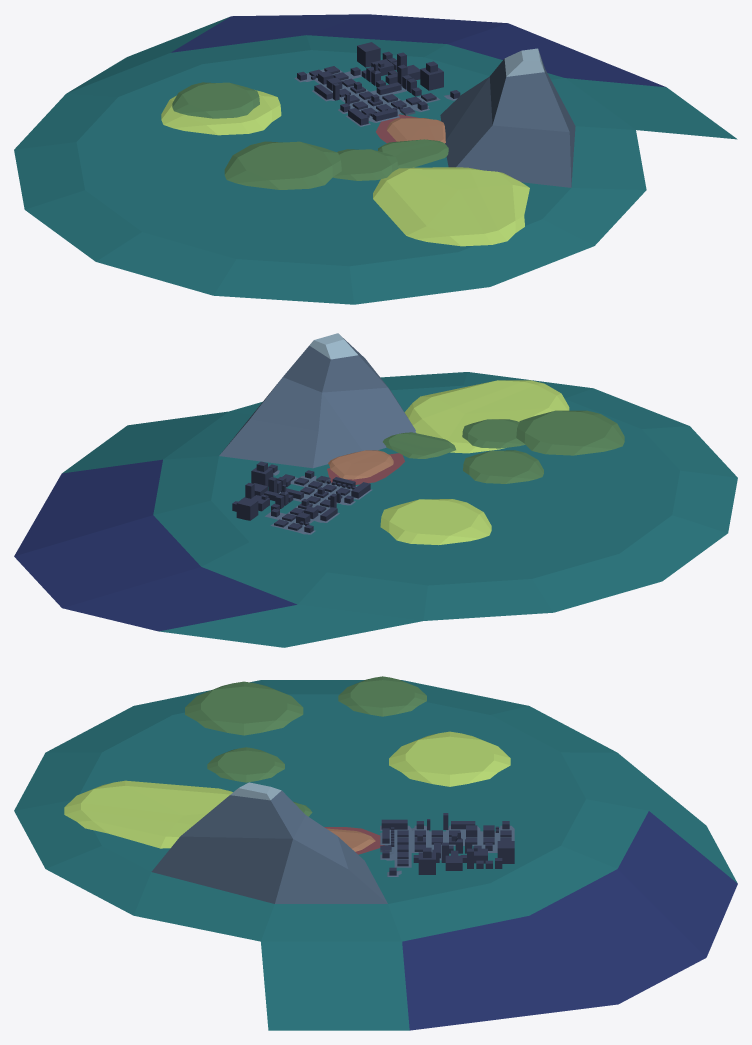
Rendered from EXT_BigCityx2_Wastes.fbx.
The picture shows the model from 3 angles, top to bottom: view 1: azimuth 30°, elevation 25°; view 2: azimuth 150°, elevation 25°; view 3: azimuth 270°, elevation 25°; orthographic projection. The views are drawn at different scales.
Visible parts, largest first — view 1: Cylinder.044, Cylinder.052, Cylinder.045, Cylinder.048, Cylinder.049, Cylinder.050, Cylinder.047, Cylinder.053, Cylinder.051, Cylinder.057; view 2: Cylinder.044, Cylinder.052, Cylinder.050, Cylinder.045, Cylinder.048, Cylinder.049, Cylinder.047, Cylinder.051, Cylinder.053; view 3: Cylinder.044, Cylinder.052, Cylinder.050, Cylinder.048, Cylinder.045, Cylinder.049, Cylinder.047, Cylinder.051.
Boxes of the visible parts, x1,y1,x2,y2 form: Cylinder.044: [14, 14, 737, 304]; Cylinder.052: [373, 167, 529, 246]; Cylinder.045: [294, 42, 460, 126]; Cylinder.048: [224, 141, 341, 189]; Cylinder.049: [172, 82, 259, 118]; Cylinder.050: [161, 90, 281, 135]; Cylinder.047: [333, 149, 397, 180]; Cylinder.053: [378, 139, 448, 168]; Cylinder.051: [387, 118, 445, 143]; Cylinder.057: [385, 64, 421, 96]; Cylinder.044: [14, 333, 737, 647]; Cylinder.052: [404, 380, 569, 453]; Cylinder.050: [380, 499, 491, 545]; Cylinder.045: [236, 461, 372, 534]; Cylinder.048: [516, 410, 624, 455]; Cylinder.049: [463, 450, 543, 483]; Cylinder.047: [462, 419, 525, 448]; Cylinder.051: [328, 450, 393, 479]; Cylinder.053: [383, 432, 455, 458]; Cylinder.044: [14, 680, 737, 1030]; Cylinder.052: [64, 780, 232, 848]; Cylinder.050: [389, 731, 510, 786]; Cylinder.048: [185, 681, 303, 735]; Cylinder.045: [380, 819, 514, 876]; Cylinder.049: [338, 676, 426, 716]; Cylinder.047: [207, 747, 284, 782]; Cylinder.051: [327, 828, 375, 851].
Size of the model in its own units: 505330 by 105083 by 494185.
